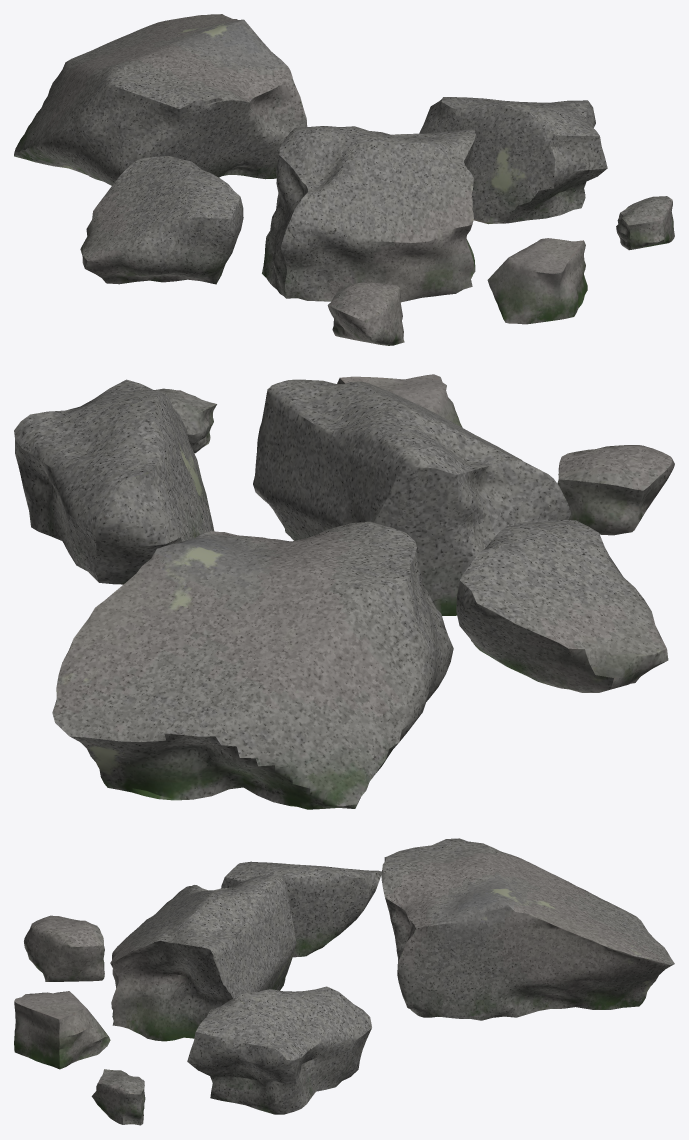
The model's file is stones_loose.glb.
The picture shows the model from 3 angles, top to bottom: view 1: azimuth 30°, elevation 25°; view 2: azimuth 150°, elevation 25°; view 3: azimuth 270°, elevation 25°; orthographic projection. The views are drawn at different scales.
Visible parts, largest first — view 1: stones_loose; view 2: stones_loose; view 3: stones_loose.
Boxes of the visible parts, <box> form: stones_loose: <box>14,14,674,345</box>; stones_loose: <box>14,374,674,809</box>; stones_loose: <box>14,838,674,1125</box>.
Size of the model in its own units: 1.22 by 0.29 by 1.48.
1 material, 1 textured.
